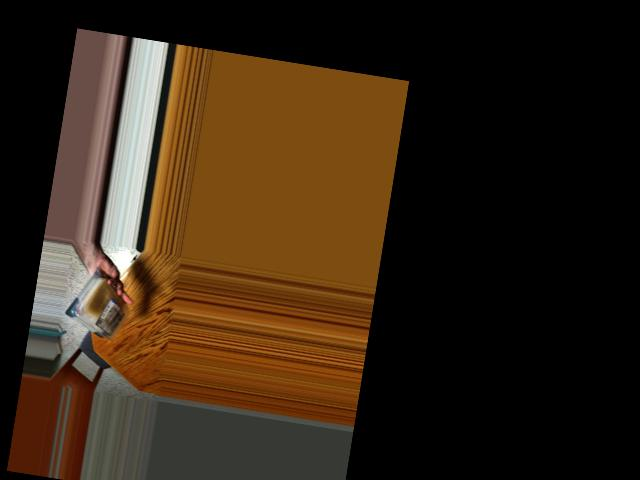cheese: (69, 270, 132, 345)
